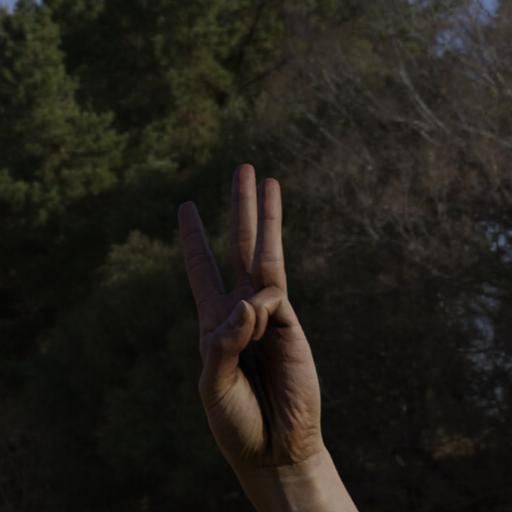W: (181, 146, 350, 512)
